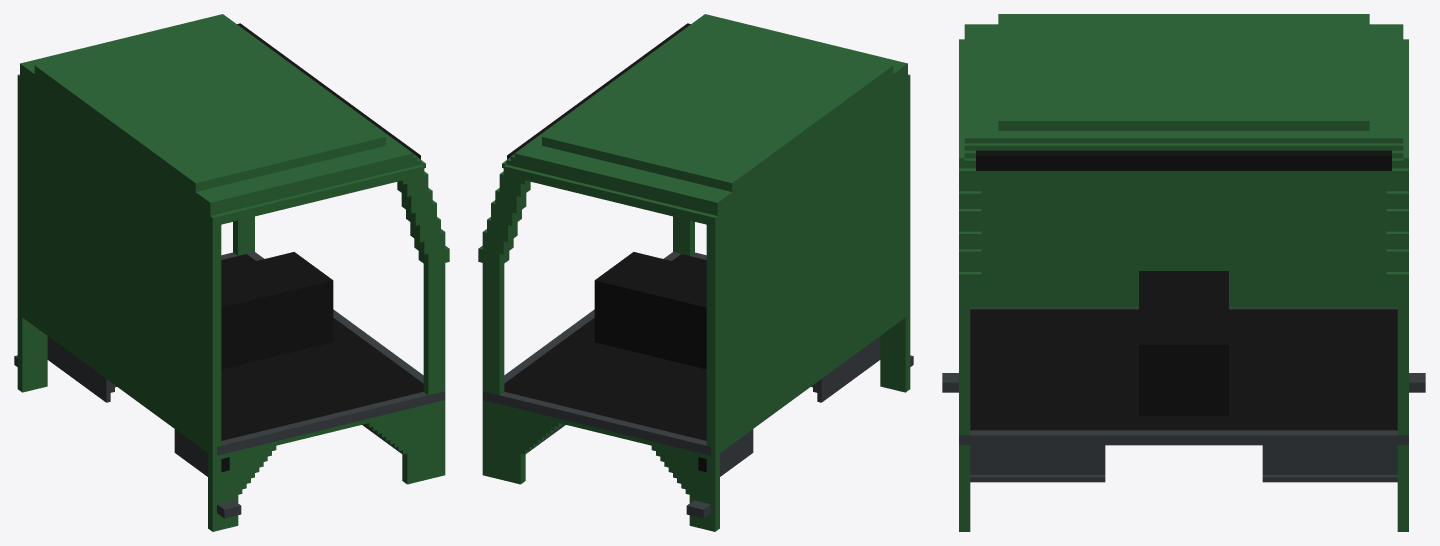
File: refuse_truck_cab.glb
3 views of the same model, side by side, from view 1: azimuth 30°, elevation 25°; view 2: azimuth 150°, elevation 25°; view 3: azimuth 270°, elevation 25° (orthographic). The views are drawn at different scales.
Visible parts, largest first — view 1: body:compound; view 2: body:compound; view 3: body:compound.
Part boxes in pixels (bbox=[...]): body:compound: bbox=[14, 14, 449, 531]; body:compound: bbox=[478, 14, 913, 531]; body:compound: bbox=[942, 14, 1425, 531].
Bounding box in the file's own units: 1.75 × 2.38 × 2.69.
